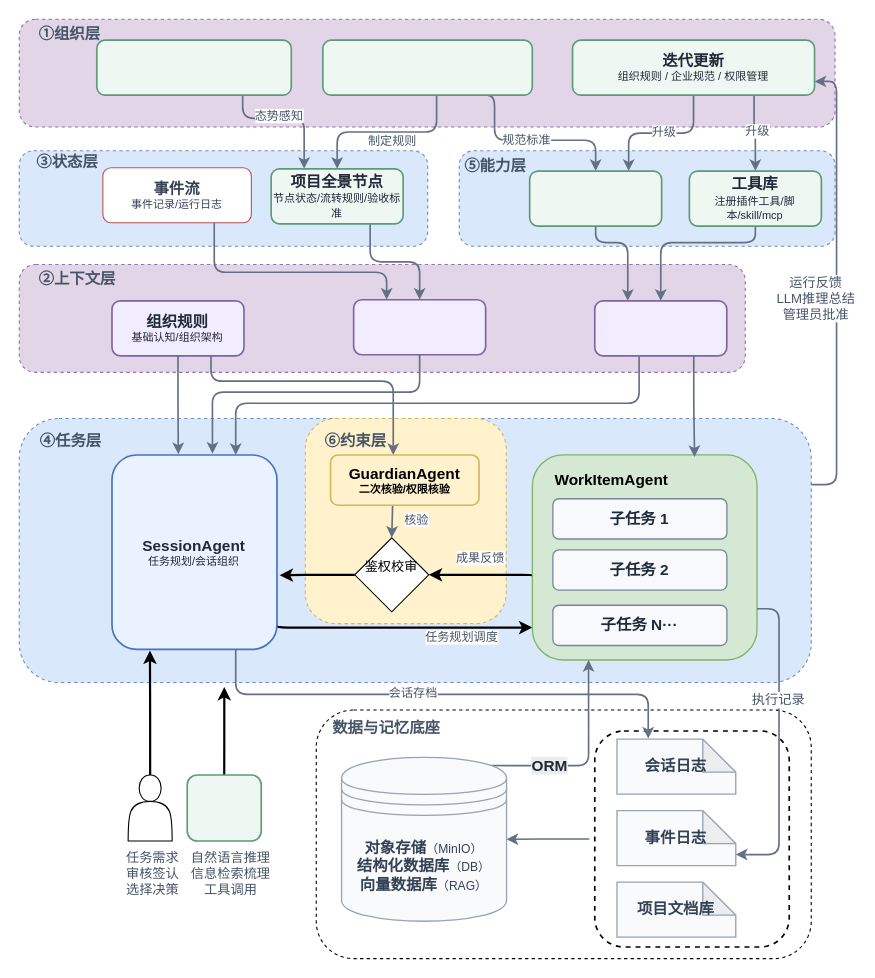
Some shapes in this 875 by 978 pixel diagram are drawn without their labels. Each missing label, with the centre of its shape:
"LLM 大语言模型API" belongs at point 224,807.
"Skill化 业务流程 （sop） 业务流程/执行约束" belongs at point 595,198.
"企业组织管理 规范标准/组织架构/权限管理" belongs at point 427,67.
"用户" belongs at point 149,807.
"系统能力 任务边界/能力边界/工具" belongs at point 660,328.
"项目态势 项目状态/过程记忆" belongs at point 419,326.
"项目进程规划 节点进程/资源组织/任务安排" belongs at point 193,67.
